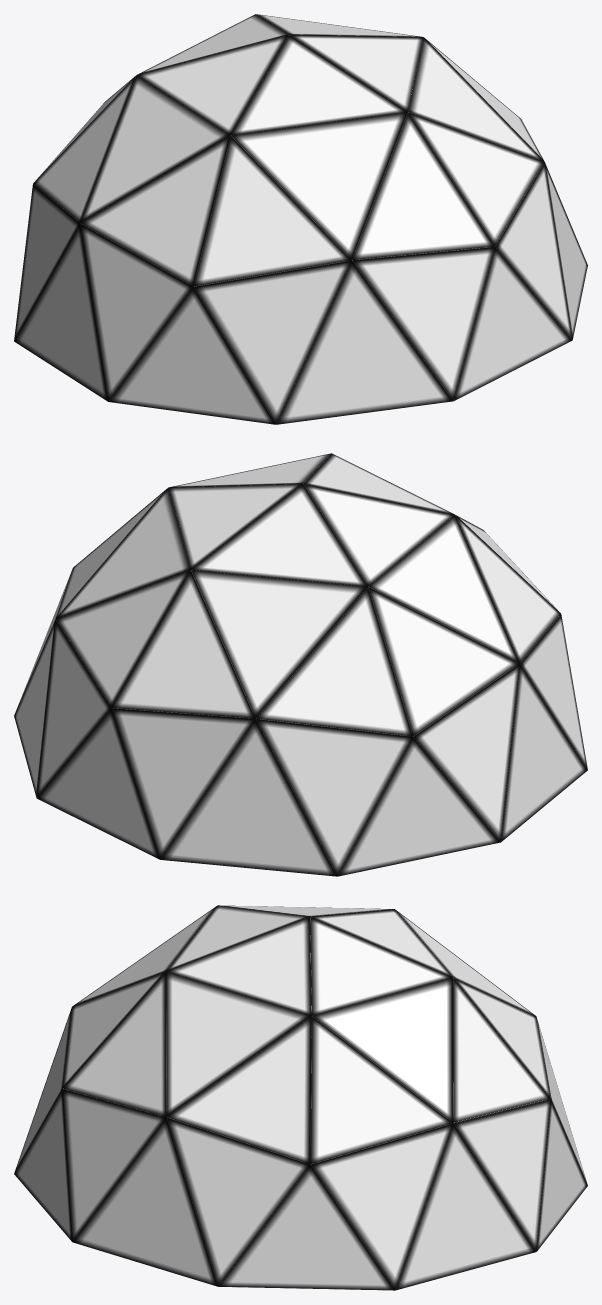
File: dome3.obj
The picture shows the model from 3 angles, top to bottom: view 1: azimuth 30°, elevation 25°; view 2: azimuth 150°, elevation 25°; view 3: azimuth 270°, elevation 25°; orthographic projection. The views are drawn at different scales.
Parts seen in each view (by area): view 1: Dome3_Cube.014; view 2: Dome3_Cube.014; view 3: Dome3_Cube.014.
Part boxes in pixels (<box>): Dome3_Cube.014: <box>14,14,587,424</box>; Dome3_Cube.014: <box>14,453,587,876</box>; Dome3_Cube.014: <box>14,905,587,1290</box>.
Size of the model in its own units: 0.0347 by 0.0189 by 0.0362.
